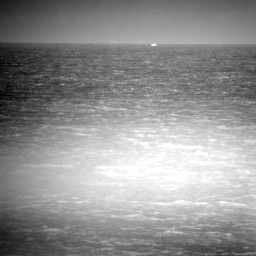Target: (149, 42, 158, 48)
